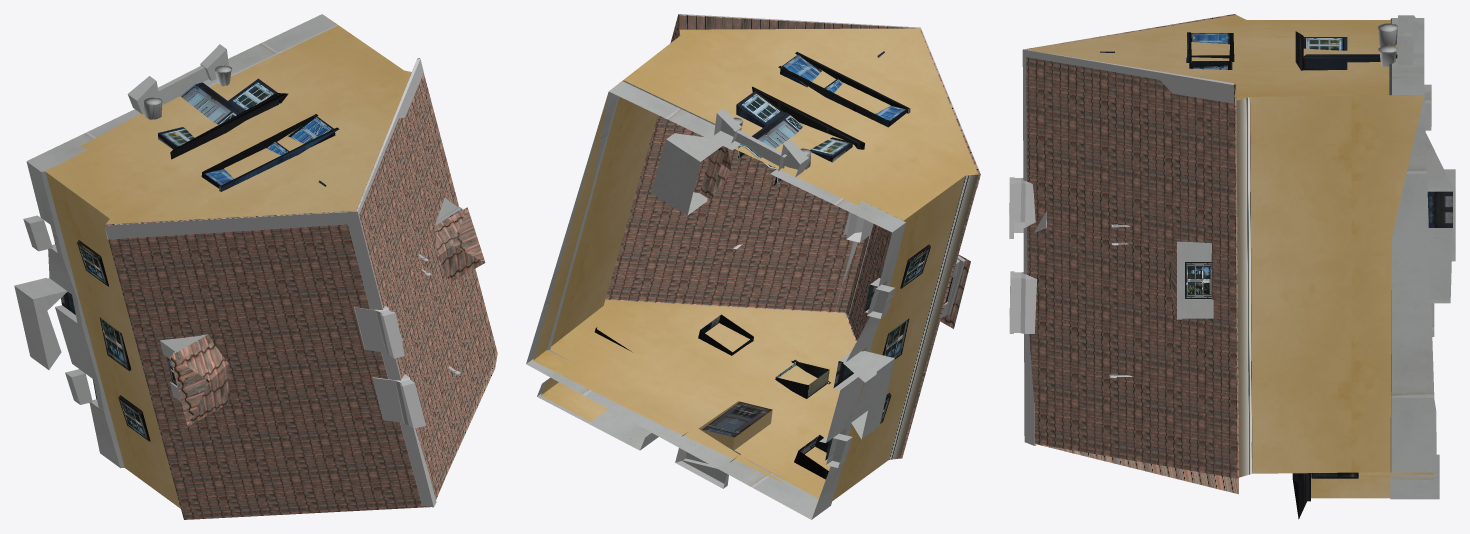
File: Wismari_11-origo.obj
3 views of the same model, side by side, from view 1: azimuth 30°, elevation 25°; view 2: azimuth 150°, elevation 25°; view 3: azimuth 270°, elevation 25° (orthographic). The views are drawn at different scales.
Visible parts, largest first — view 1: Wismari_11; view 2: Wismari_11; view 3: Wismari_11.
Boxes of the visible parts, <box> form: Wismari_11: <box>14,14,497,519</box>; Wismari_11: <box>526,14,980,519</box>; Wismari_11: <box>1009,14,1455,519</box>.
Size of the model in its own units: 13.75 by 13.5 by 12.12.
